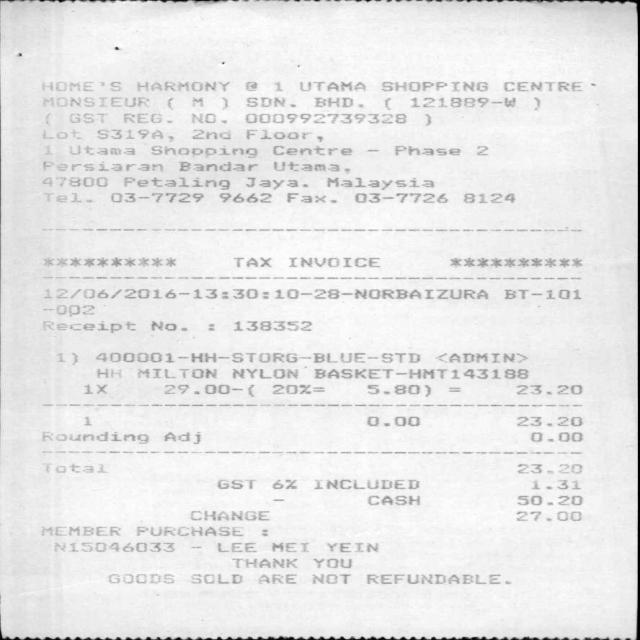text: (42, 288, 486, 299), (94, 352, 419, 363), (303, 366, 527, 379), (245, 114, 392, 124), (366, 574, 509, 584), (326, 177, 433, 190), (150, 145, 256, 158), (122, 177, 228, 190), (41, 432, 147, 444), (53, 542, 173, 552), (42, 161, 161, 171), (164, 384, 252, 397), (42, 321, 134, 333), (42, 97, 148, 107), (136, 526, 242, 536), (410, 98, 515, 108), (382, 81, 486, 91), (314, 479, 418, 489), (245, 129, 321, 142), (353, 193, 447, 203), (109, 192, 202, 202), (504, 288, 580, 300), (287, 257, 378, 267), (435, 352, 526, 362), (96, 129, 171, 141), (272, 145, 351, 156), (136, 82, 229, 91), (272, 161, 348, 172), (244, 177, 306, 190), (177, 161, 257, 171), (41, 81, 120, 91), (40, 526, 119, 536), (137, 368, 215, 378), (190, 510, 268, 520), (233, 321, 310, 331), (366, 385, 430, 397), (516, 494, 582, 505), (394, 145, 459, 156), (231, 368, 296, 379), (503, 82, 580, 91), (42, 305, 104, 316), (68, 145, 134, 155), (230, 558, 296, 568), (516, 384, 581, 394), (516, 416, 581, 426), (42, 177, 106, 187), (42, 463, 106, 473), (516, 511, 580, 521), (108, 574, 172, 584), (299, 82, 364, 91), (516, 464, 581, 473), (530, 431, 581, 442), (462, 193, 514, 203), (366, 416, 418, 426), (219, 192, 270, 202), (272, 384, 323, 394), (367, 495, 418, 505), (326, 542, 377, 552), (244, 97, 294, 107), (530, 480, 580, 490), (191, 574, 241, 584), (313, 98, 362, 108), (122, 113, 171, 123), (286, 193, 335, 203), (43, 192, 91, 202), (163, 432, 199, 444), (216, 542, 255, 552), (191, 129, 229, 139), (312, 558, 350, 568), (257, 574, 295, 584), (68, 113, 105, 123), (233, 257, 270, 267), (216, 479, 253, 489), (312, 574, 349, 584), (150, 321, 186, 331), (271, 542, 307, 552), (191, 113, 225, 123), (42, 130, 79, 139), (56, 352, 76, 365), (271, 479, 295, 489), (83, 384, 106, 394), (96, 368, 115, 378), (476, 146, 486, 156), (245, 82, 256, 91), (190, 97, 201, 106), (43, 146, 51, 156), (533, 97, 539, 110), (384, 97, 389, 110), (274, 82, 281, 91), (166, 98, 172, 108), (424, 113, 429, 125), (83, 417, 90, 425), (448, 387, 459, 392), (222, 97, 226, 108), (261, 529, 266, 536)
